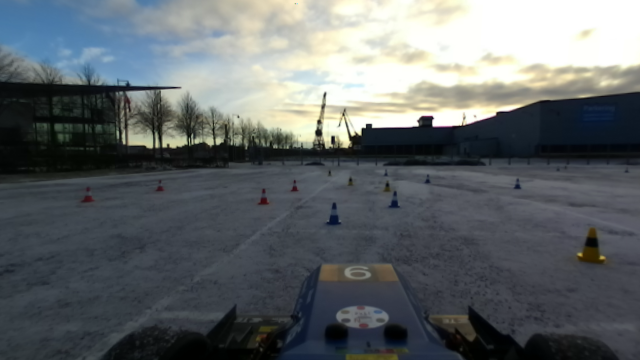blue: (325, 202, 342, 225), (388, 191, 399, 209), (512, 177, 522, 190), (423, 173, 432, 184)
orange: (256, 187, 269, 206), (81, 186, 94, 202), (289, 179, 299, 193), (154, 179, 164, 191)
yellow: (576, 227, 606, 264), (382, 180, 392, 193), (345, 175, 354, 186), (326, 168, 333, 176)
